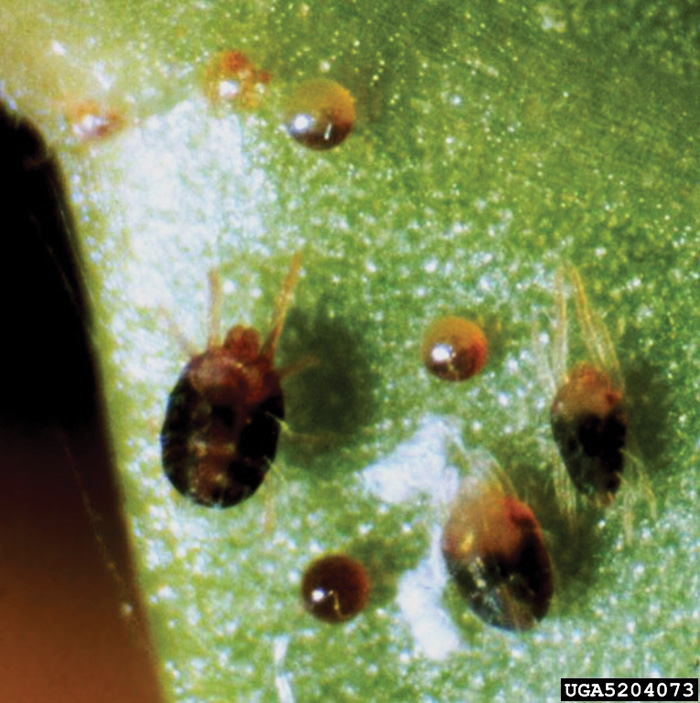Mites: (137, 264, 348, 493), (395, 477, 564, 637), (555, 327, 637, 498)
